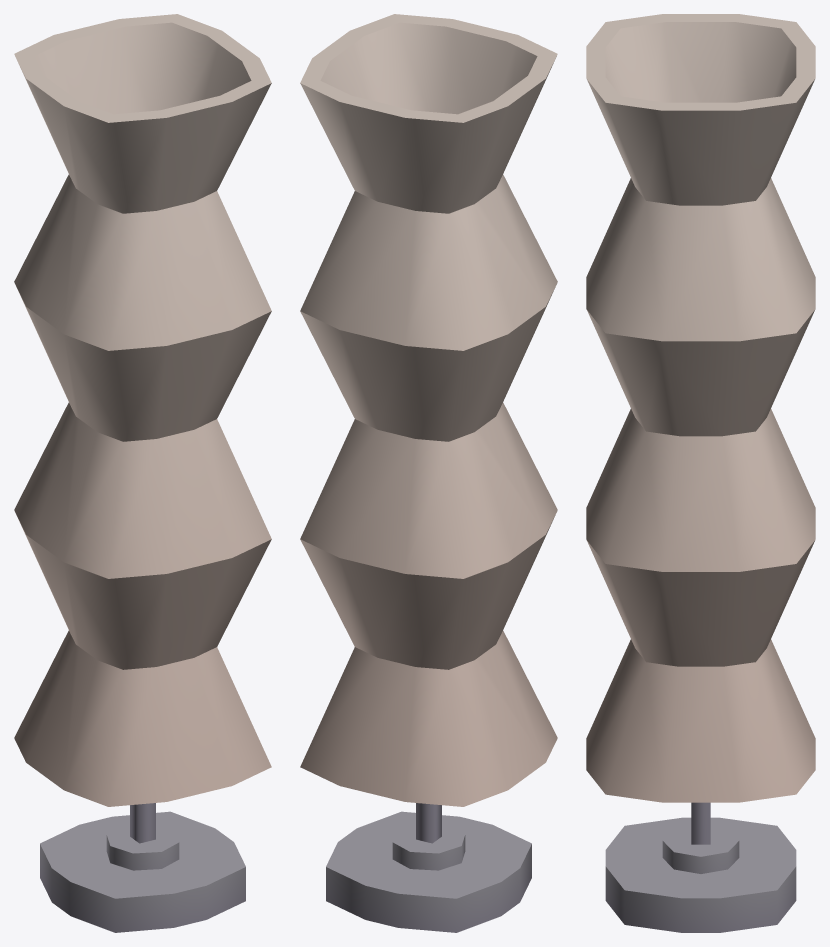
Rendered from lamp-long-standing-wiggle-style-b.glb.
3 renders of one model, left to right at view 1: azimuth 30°, elevation 25°; view 2: azimuth 150°, elevation 25°; view 3: azimuth 270°, elevation 25°, orthographic.
Parts seen in each view (by area): view 1: lamp-long-standing-wiggle-style-b; view 2: lamp-long-standing-wiggle-style-b; view 3: lamp-long-standing-wiggle-style-b.
Boxes of the visible parts, left/top/right/bottom form: lamp-long-standing-wiggle-style-b: left=14, top=14, right=271, bottom=932; lamp-long-standing-wiggle-style-b: left=300, top=14, right=557, bottom=932; lamp-long-standing-wiggle-style-b: left=586, top=14, right=815, bottom=932.
Bounding box in the file's own units: 0.3 × 1.2 × 0.3.
